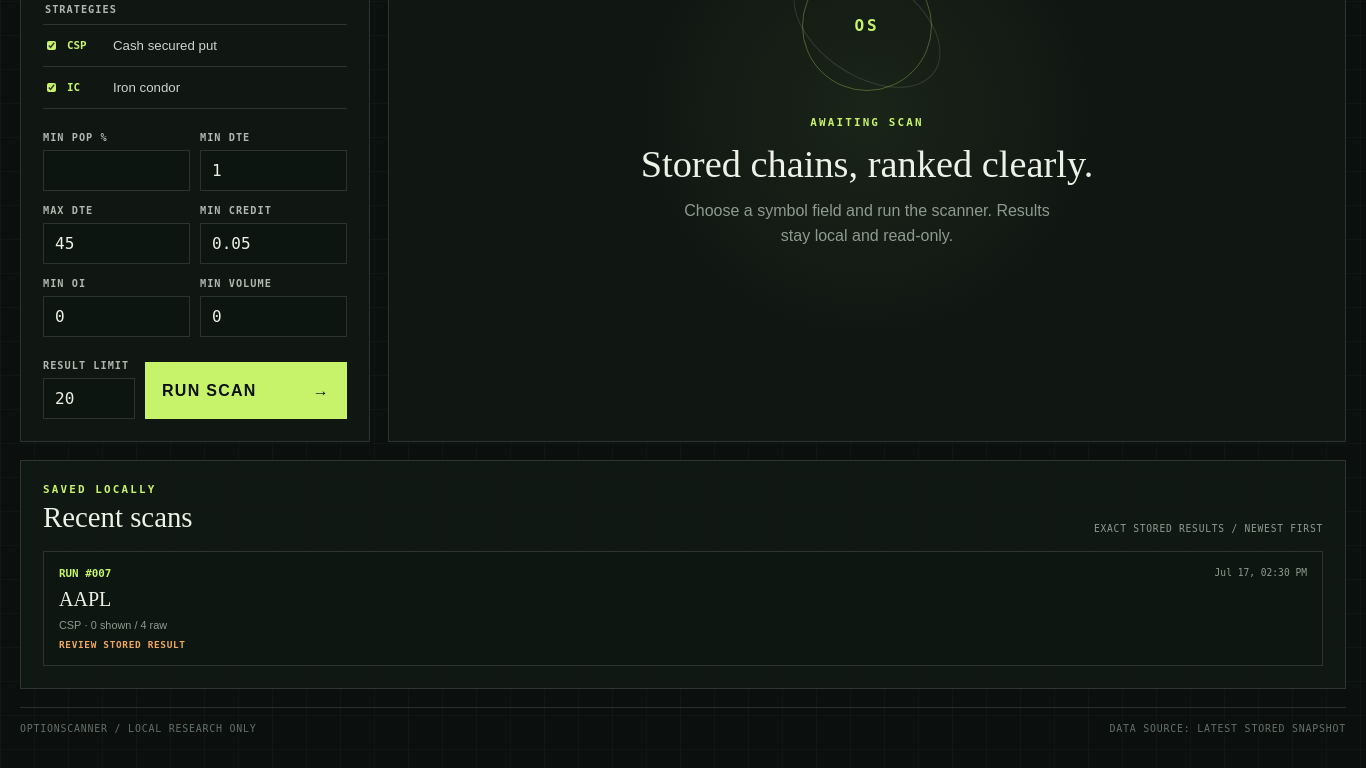
Test: DashboardPage › restores controls and exact results from scan history
This screenshot has width=1366, height=768.
(page scrolled)
Click the button that starts with "Run #".
click(75, 574)  # box left=43, top=552, right=1323, bottom=666
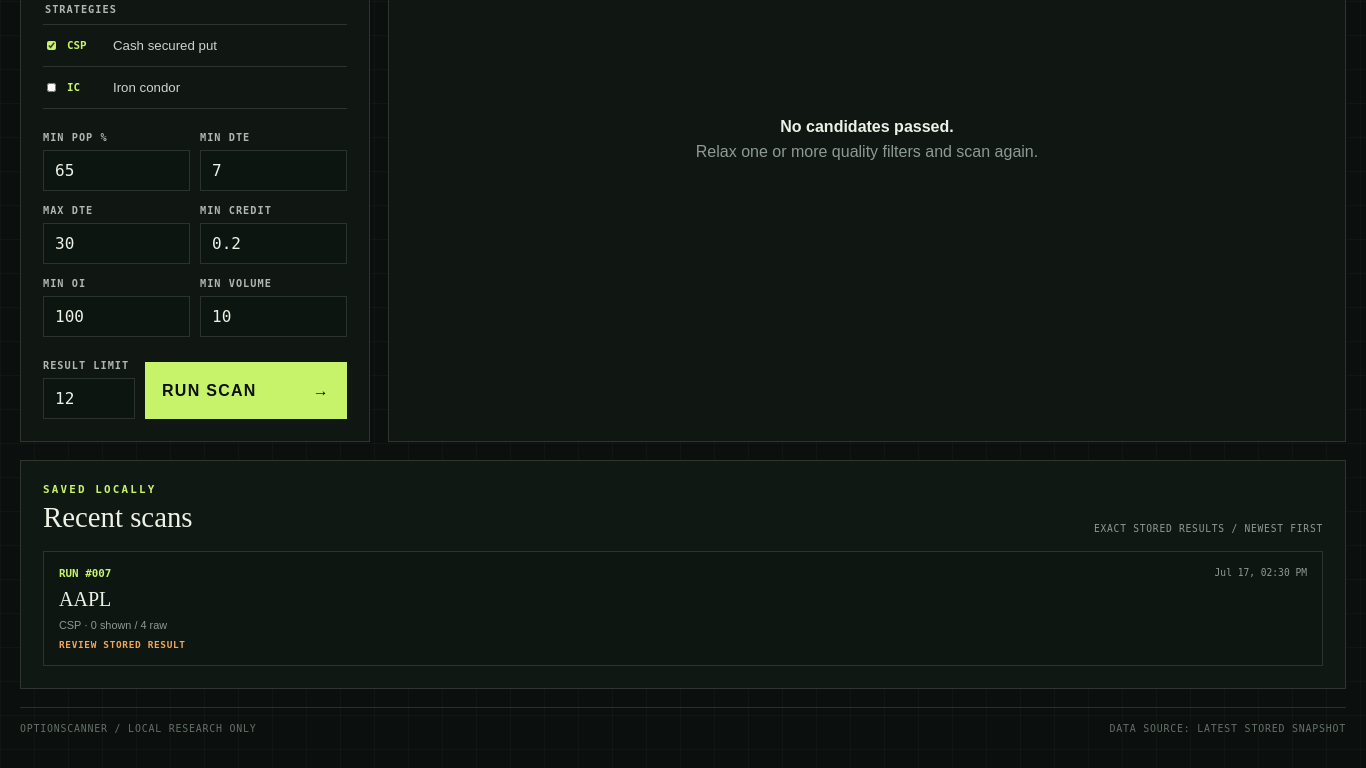
Result: the number field named "Minimum POP" holds "65" at left=43, top=150, right=190, bottom=191
Result: the number field named "Minimum DTE" holds "7" at left=200, top=150, right=347, bottom=191
Result: the text "No candidates passed." is shown at left=780, top=118, right=954, bottom=135
